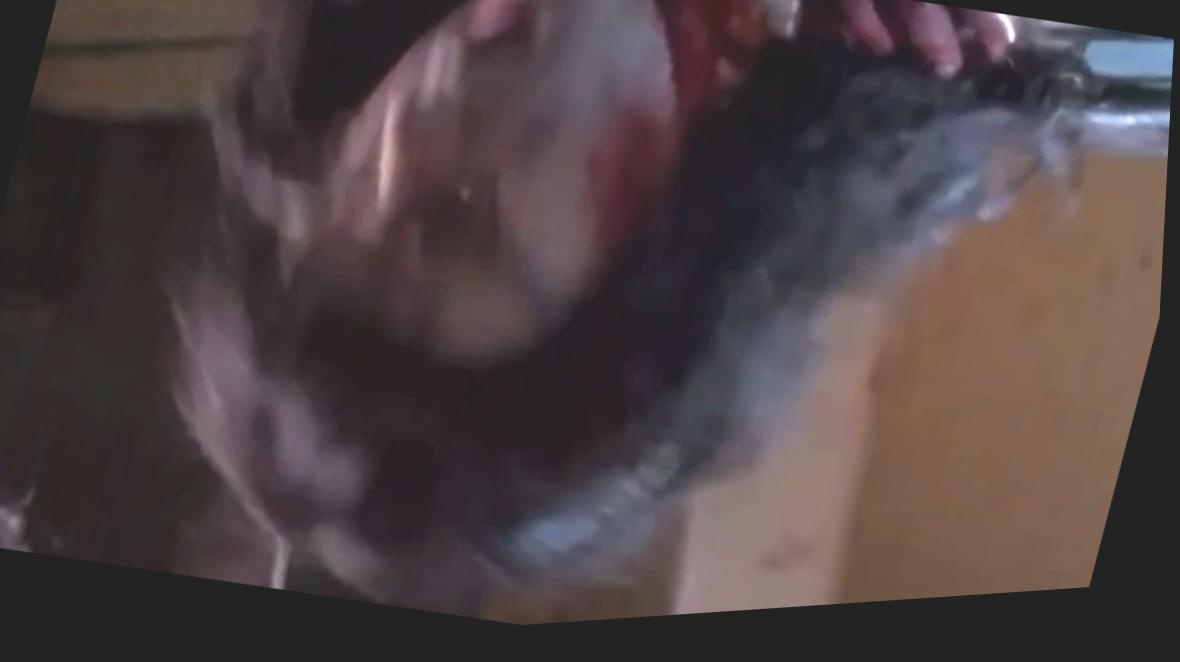Fire: (321, 0, 1007, 371)
